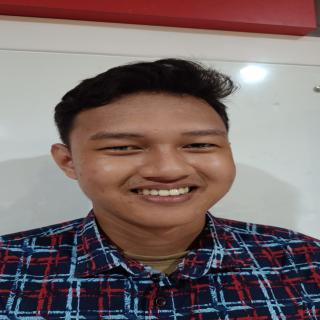Senang: (63, 83, 244, 232)
